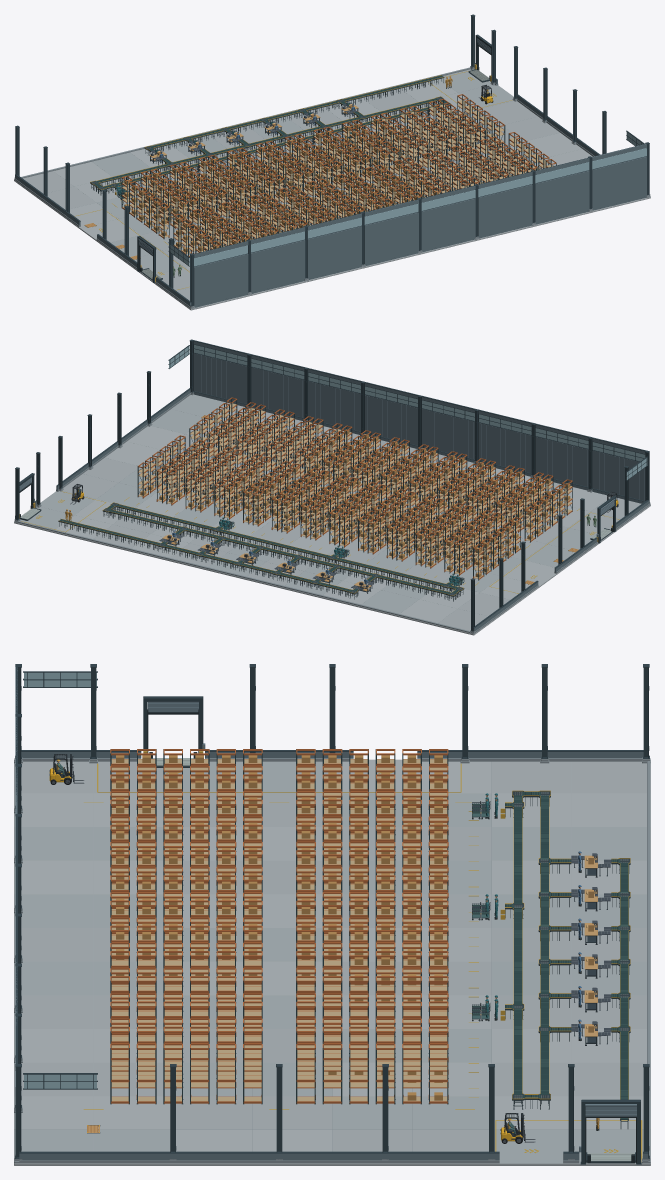
The model's file is large-warehouse.glb.
3 views of the same model, one above another, from view 1: azimuth 30°, elevation 25°; view 2: azimuth 150°, elevation 25°; view 3: azimuth 270°, elevation 25° (orthographic). The views are drawn at different scales.
Visible parts, largest first — view 1: environment_shell__V2::environment-shell__material_08, environment_shell__V2::environment-shell__material_05, environment_shell__V2::environment-shell__material_06, environment_shell__V2::environment-shell__material_07, environment_shell__V2::environment-shell__material_02, environment_shell__V2::environment-shell__material_01, environment_shell__V2::environment-shell__material_03, environment_shell__V2::environment-shell__material_09; view 2: environment_shell__V2::environment-shell__material_08, environment_shell__V2::environment-shell__material_06, environment_shell__V2::environment-shell__material_07, environment_shell__V2::environment-shell__material_05, environment_shell__V2::environment-shell__material_02, environment_shell__V2::environment-shell__material_01, environment_shell__V2::environment-shell__material_03, environment_shell__V2::environment-shell__material_09, environment_shell__V2::environment-shell__material_00; view 3: environment_shell__V2::environment-shell__material_06, environment_shell__V2::environment-shell__material_05, environment_shell__V2::environment-shell__material_07, environment_shell__V2::environment-shell__material_02, environment_shell__V2::environment-shell__material_08, environment_shell__V2::environment-shell__material_03, environment_shell__V2::environment-shell__material_09, environment_shell__V2::environment-shell__material_01, dock__SHIPPING::dock__material_02, environment_shell__V2::environment-shell__material_04, environment_shell__V2::environment-shell__material_00, dock__RECEIVING::dock__material_02.
Part boxes in pixels (x1,y1,x2,y2): environment_shell__V2::environment-shell__material_08: [15, 64, 646, 307]; environment_shell__V2::environment-shell__material_05: [23, 88, 573, 308]; environment_shell__V2::environment-shell__material_06: [54, 79, 612, 299]; environment_shell__V2::environment-shell__material_07: [92, 69, 645, 290]; environment_shell__V2::environment-shell__material_02: [15, 14, 649, 306]; environment_shell__V2::environment-shell__material_01: [169, 132, 646, 266]; environment_shell__V2::environment-shell__material_03: [14, 66, 650, 308]; environment_shell__V2::environment-shell__material_09: [14, 125, 650, 310]; environment_shell__V2::environment-shell__material_08: [15, 340, 648, 630]; environment_shell__V2::environment-shell__material_06: [54, 403, 610, 624]; environment_shell__V2::environment-shell__material_07: [20, 394, 606, 614]; environment_shell__V2::environment-shell__material_05: [63, 412, 641, 633]; environment_shell__V2::environment-shell__material_02: [15, 339, 649, 631]; environment_shell__V2::environment-shell__material_01: [169, 344, 647, 479]; environment_shell__V2::environment-shell__material_03: [14, 392, 650, 633]; environment_shell__V2::environment-shell__material_09: [14, 450, 650, 635]; environment_shell__V2::environment-shell__material_00: [21, 491, 619, 593]; environment_shell__V2::environment-shell__material_06: [14, 759, 650, 1151]; environment_shell__V2::environment-shell__material_05: [14, 761, 650, 1151]; environment_shell__V2::environment-shell__material_07: [14, 761, 650, 1163]; environment_shell__V2::environment-shell__material_02: [15, 664, 649, 1158]; environment_shell__V2::environment-shell__material_08: [15, 667, 648, 1160]; environment_shell__V2::environment-shell__material_03: [14, 757, 650, 1163]; environment_shell__V2::environment-shell__material_09: [14, 760, 650, 1165]; environment_shell__V2::environment-shell__material_01: [24, 672, 96, 1088]; dock__SHIPPING::dock__material_02: [580, 1099, 641, 1164]; environment_shell__V2::environment-shell__material_04: [21, 762, 643, 1151]; environment_shell__V2::environment-shell__material_00: [83, 763, 642, 1159]; dock__RECEIVING::dock__material_02: [143, 696, 203, 767].
Size of the model in its own units: 72.46 by 8.2 by 48.
